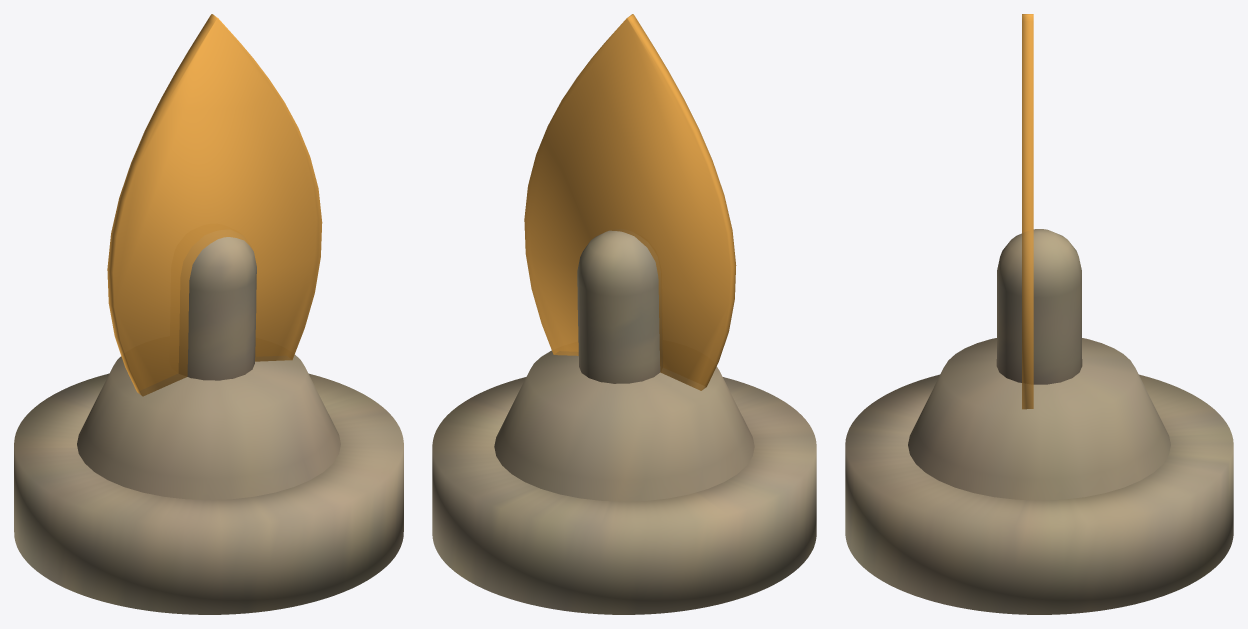
The model's file is flame-mount.glb.
3 renders of one model, left to right at view 1: azimuth 30°, elevation 25°; view 2: azimuth 150°, elevation 25°; view 3: azimuth 270°, elevation 25°, orthographic.
Visible parts, largest first — view 1: flame-mount-mount, flame-mount-card; view 2: flame-mount-mount, flame-mount-card; view 3: flame-mount-mount, flame-mount-card.
Boxes of the visible parts, left/top/right/bottom form: flame-mount-mount: left=14, top=230, right=403, bottom=614; flame-mount-card: left=107, top=14, right=322, bottom=396; flame-mount-mount: left=432, top=229, right=816, bottom=614; flame-mount-card: left=524, top=14, right=736, bottom=390; flame-mount-mount: left=845, top=229, right=1233, bottom=614; flame-mount-card: left=1022, top=14, right=1033, bottom=409.
Size of what is drawn, in the model's own units: 2 by 2.95 by 2.
